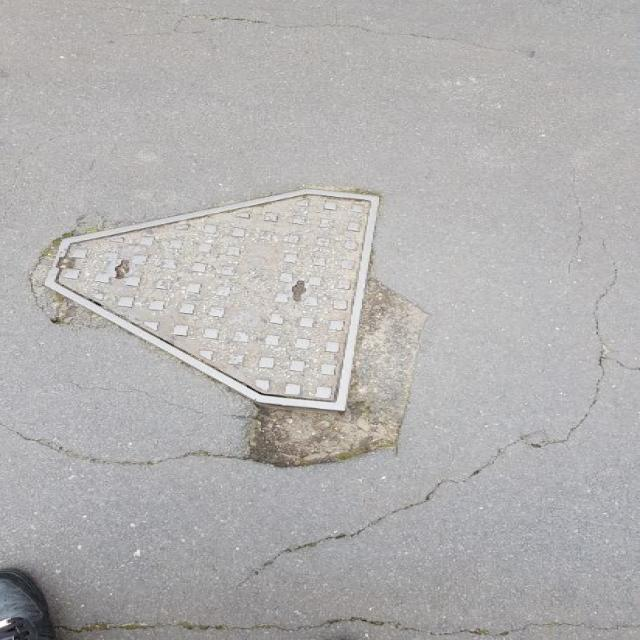pothole: (228, 277, 442, 473)
